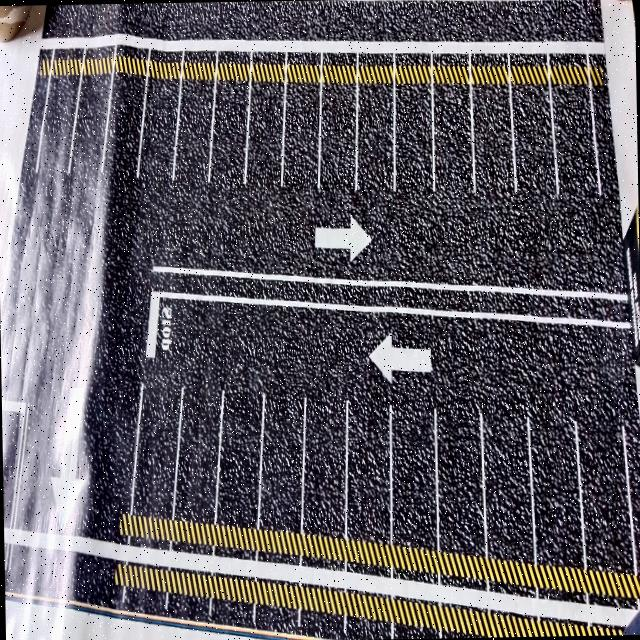others: (623, 207, 640, 366), (0, 5, 31, 41)
slots: (578, 408, 633, 572), (530, 416, 583, 566), (482, 408, 533, 560), (174, 382, 222, 522), (438, 409, 484, 555), (131, 381, 180, 517), (217, 384, 261, 525), (259, 392, 303, 530), (347, 397, 389, 541), (392, 407, 435, 547), (303, 397, 344, 535), (552, 85, 598, 205), (103, 66, 146, 183), (473, 84, 514, 201), (512, 86, 556, 194), (36, 75, 78, 184), (71, 73, 111, 183), (434, 83, 472, 198), (139, 76, 178, 187), (174, 76, 213, 181), (358, 80, 393, 193), (396, 83, 432, 192), (283, 80, 319, 187), (320, 84, 355, 193), (211, 81, 247, 182), (248, 82, 282, 185)
